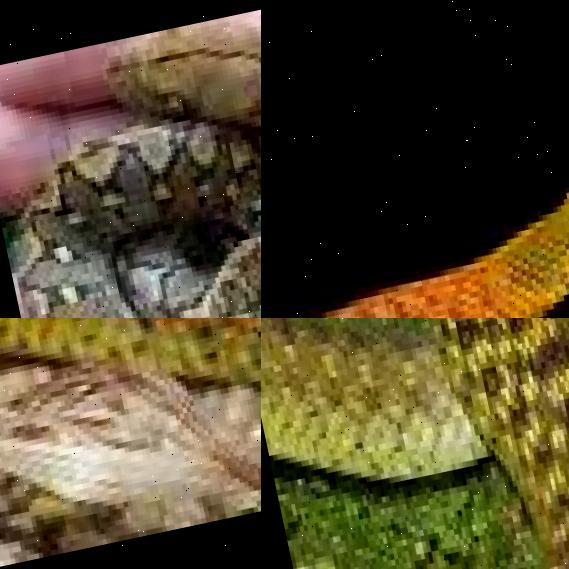snake: (261, 0, 569, 318), (0, 0, 261, 318), (261, 318, 569, 569), (0, 318, 261, 524)
